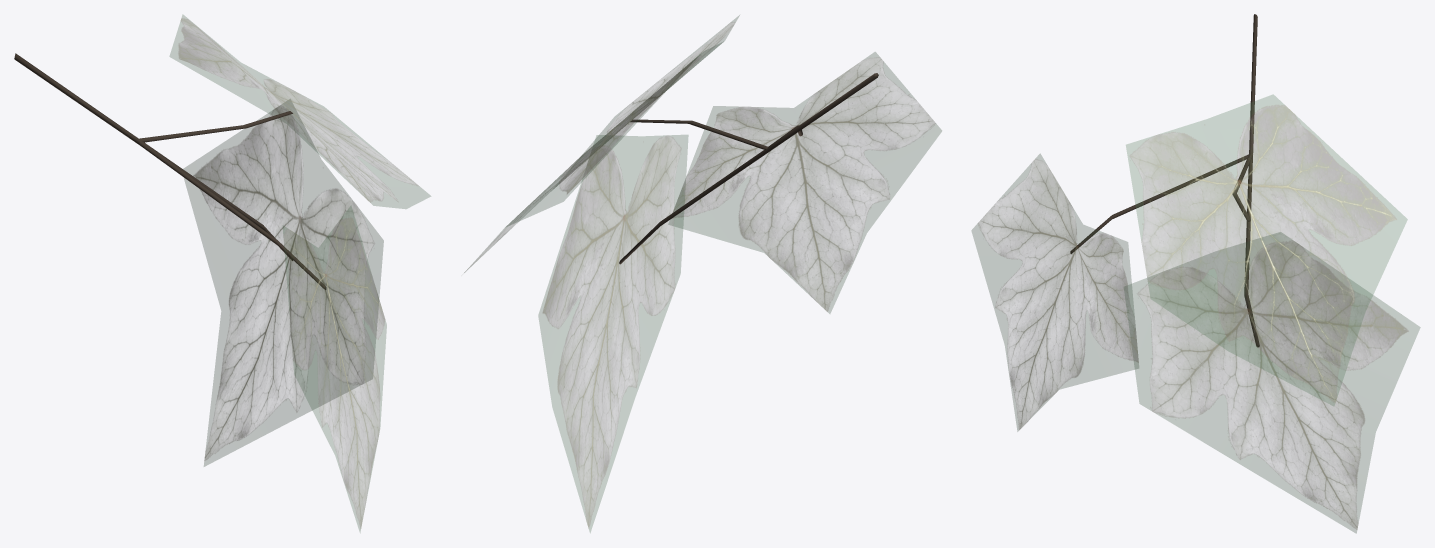
File: preview.glb
3 views of the same model, side by side, from view 1: azimuth 30°, elevation 25°; view 2: azimuth 150°, elevation 25°; view 3: azimuth 270°, elevation 25° (orthographic). The views are drawn at different scales.
Visible parts, largest first — view 1: Vine_Vitis_vinifera_D_Leaf_glb, Vine_Vitis_vinifera_D_Stem_glb; view 2: Vine_Vitis_vinifera_D_Leaf_glb, Vine_Vitis_vinifera_D_Stem_glb; view 3: Vine_Vitis_vinifera_D_Leaf_glb, Vine_Vitis_vinifera_D_Stem_glb.
Boxes of the visible parts, bbox=[...] form: Vine_Vitis_vinifera_D_Leaf_glb: bbox=[169, 15, 430, 532]; Vine_Vitis_vinifera_D_Stem_glb: bbox=[14, 53, 326, 289]; Vine_Vitis_vinifera_D_Leaf_glb: bbox=[464, 15, 941, 532]; Vine_Vitis_vinifera_D_Stem_glb: bbox=[619, 73, 878, 264]; Vine_Vitis_vinifera_D_Leaf_glb: bbox=[971, 94, 1420, 533]; Vine_Vitis_vinifera_D_Stem_glb: bbox=[1070, 14, 1259, 347].
Size of the model in its own units: 0.1267 by 0.1542 by 0.1493.
Materials: 2 (2 with a texture image).
